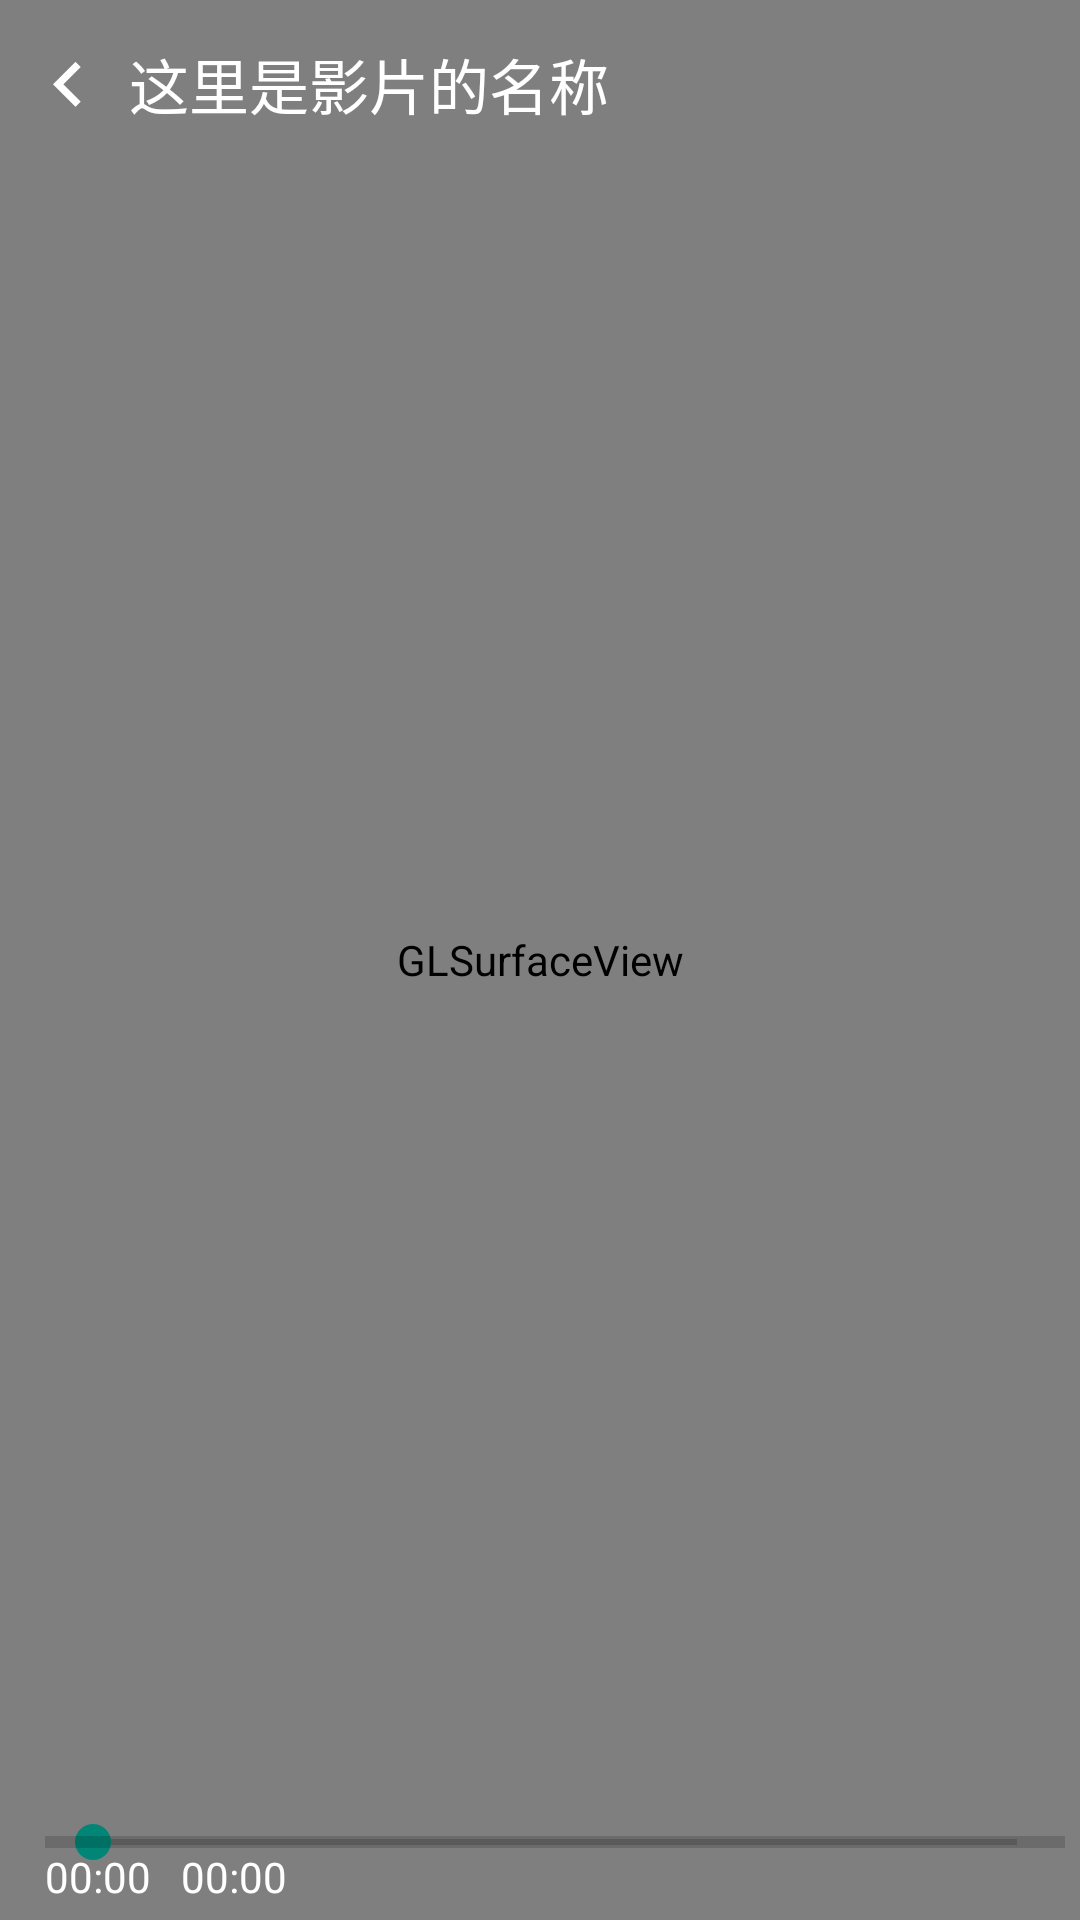

Named icons in this screenshot (1080w x 1920h) and their centers, point (x, y):
back arrow: point (67, 84)
